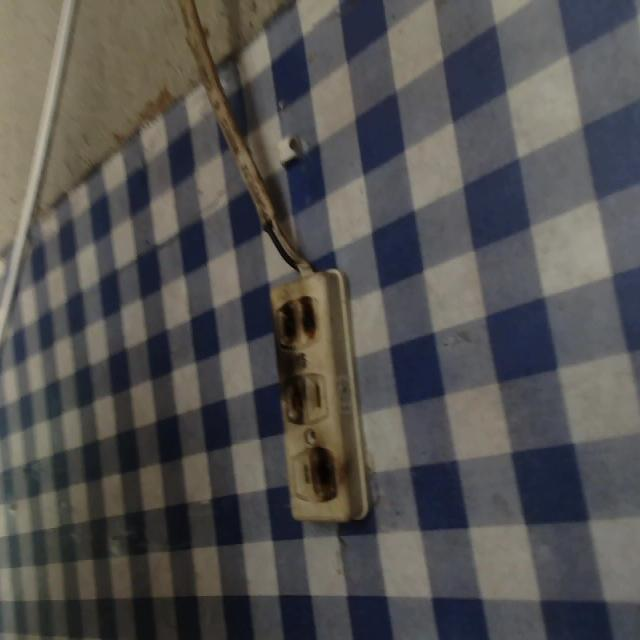-: (273, 292, 323, 348), (306, 448, 338, 508), (277, 371, 310, 425)
